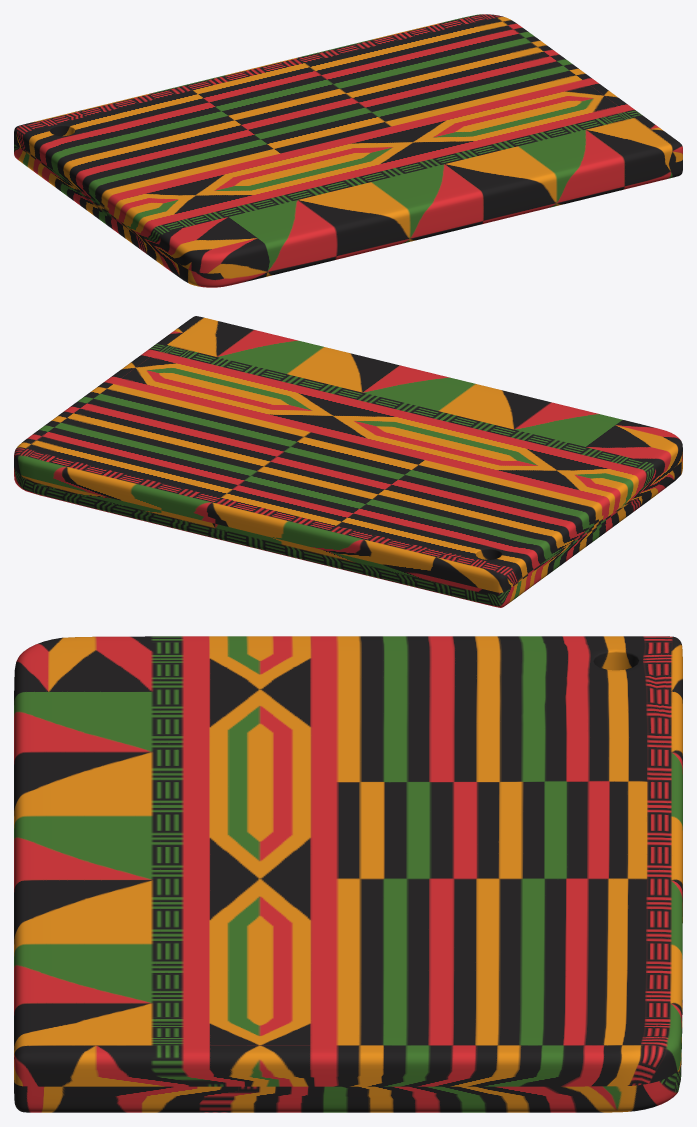
The model's file is board_veggie.fbx.
3 renders of one model, top to bottom at view 1: azimuth 30°, elevation 25°; view 2: azimuth 150°, elevation 25°; view 3: azimuth 270°, elevation 25°, orthographic. The views are drawn at different scales.
Visible parts, largest first — view 1: cutting_board; view 2: cutting_board; view 3: cutting_board.
Part boxes in pixels (x1,y1,x2,y2): cutting_board: [14, 14, 682, 287]; cutting_board: [14, 316, 682, 607]; cutting_board: [14, 636, 682, 1112].
Size of the model in its own units: 30 by 2 by 20.
